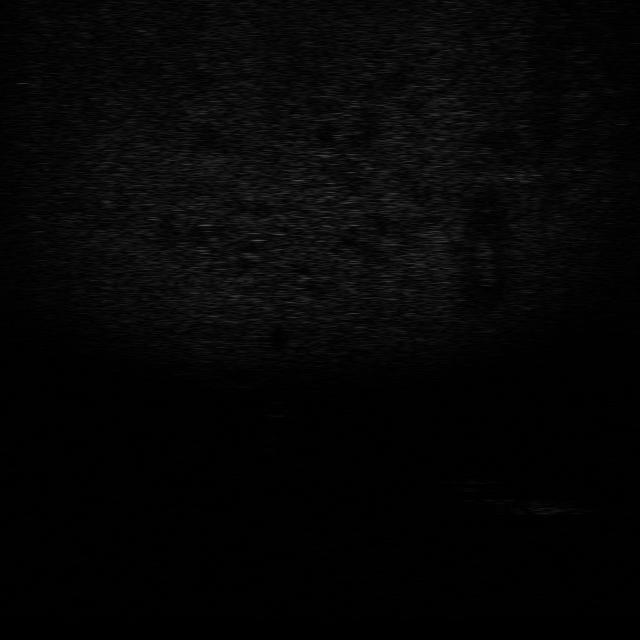ball: (259, 397, 291, 421)
metal bucket: (513, 491, 585, 519)
tyre: (460, 475, 516, 508)
